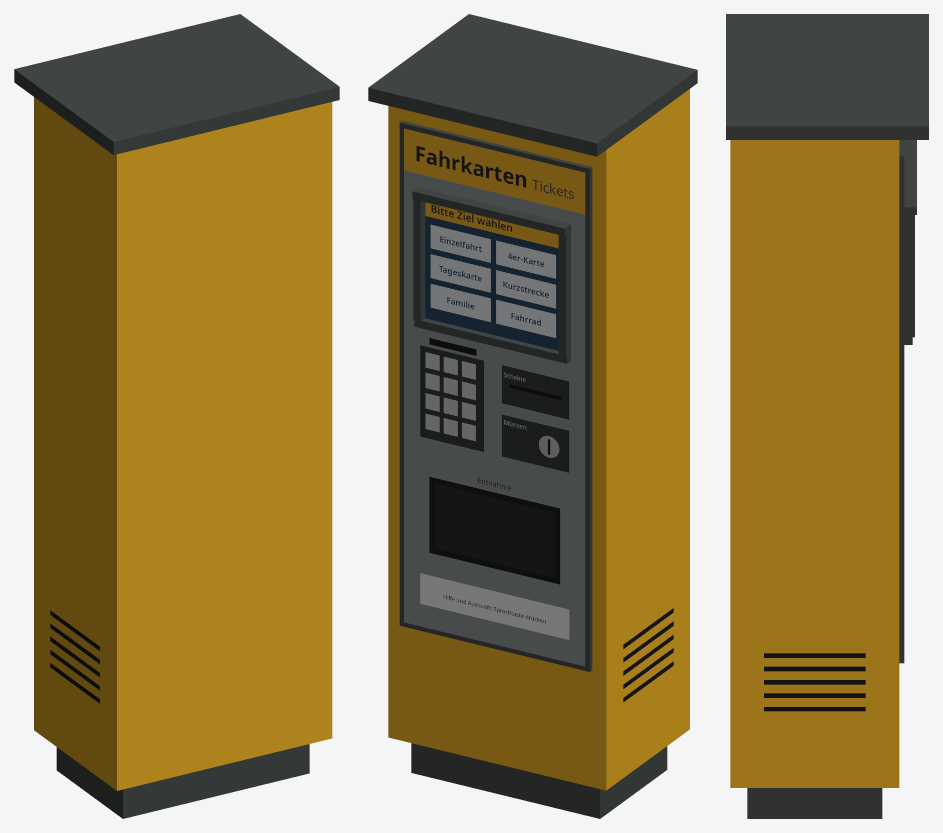
The model's file is ticket_machine.glb.
3 views of the same model, side by side, from view 1: azimuth 30°, elevation 25°; view 2: azimuth 150°, elevation 25°; view 3: azimuth 270°, elevation 25° (orthographic).
Parts seen in each view (by area): view 1: TicketMachine; view 2: TicketMachine; view 3: TicketMachine.
Part boxes in pixels (x1,y1,x2,y2): TicketMachine: [14, 14, 339, 818]; TicketMachine: [368, 14, 697, 818]; TicketMachine: [726, 14, 928, 818].
Bounding box in the file's own units: 0.63 × 1.84 × 0.48.
Materials: 5 (2 with a texture image).
